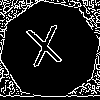X: (25, 25, 67, 76)
